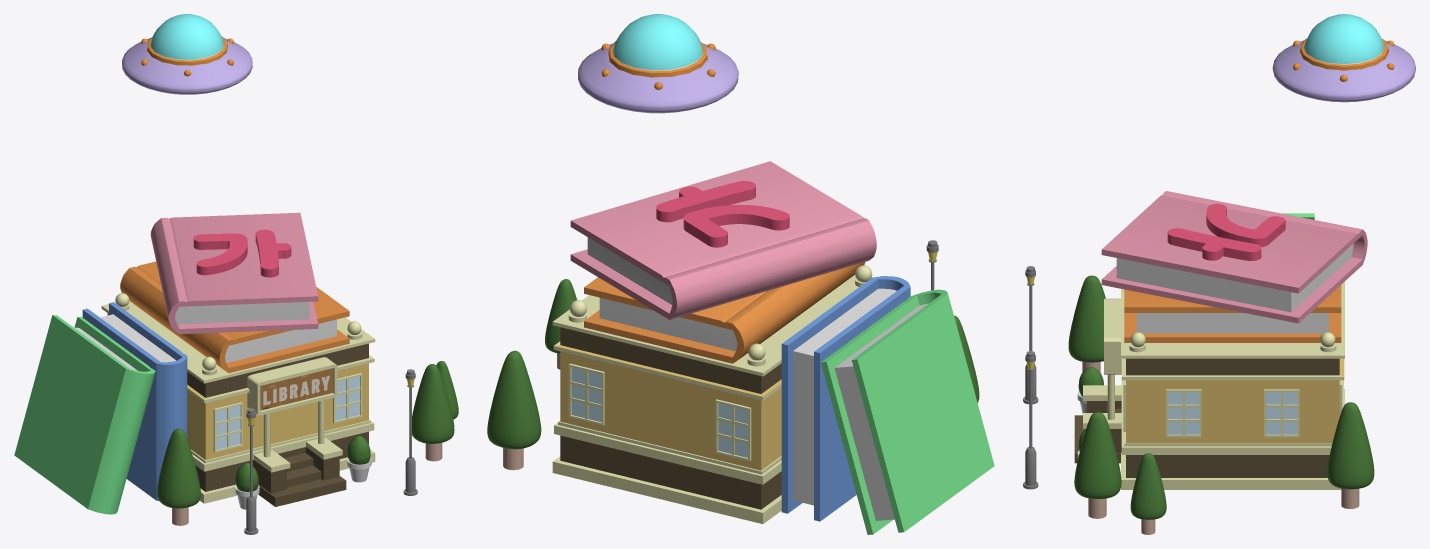
Rendered from Library.fbx.
3 views of the same model, side by side, from view 1: azimuth 30°, elevation 25°; view 2: azimuth 150°, elevation 25°; view 3: azimuth 270°, elevation 25° (orthographic). The views are drawn at different scales.
Parts seen in each view (by area): view 1: Library_Middle, Book_01, Library_Book_Up_02, UFO, Book_02, Library_Book_Up_01, Tree_01, Tree_02, Library_Light, Library_Pot_Plant, Library_Pot_02; view 2: Library_Middle, Library_Book_Up_02, Book_01, Book_02, UFO, Library_Book_Up_01, Tree_03, Tree_04; view 3: Library_Middle, Library_Book_Up_02, UFO, Library_Book_Up_01, Tree_02, Tree_03, Tree_01, Tree_04, Library_Light, Library_Pot_Plant.
Boxes of the visible parts, <box> form: Library_Middle: <box>101,293,375,506</box>; Book_01: <box>14,315,155,514</box>; Library_Book_Up_02: <box>150,212,318,334</box>; UFO: <box>122,14,252,94</box>; Book_02: <box>82,302,187,500</box>; Library_Book_Up_01: <box>120,261,349,372</box>; Tree_01: <box>157,428,200,525</box>; Tree_02: <box>412,364,454,461</box>; Library_Light: <box>244,369,417,534</box>; Library_Pot_Plant: <box>235,435,370,491</box>; Library_Pot_02: <box>235,458,371,509</box>; Library_Middle: <box>552,265,873,523</box>; Library_Book_Up_02: <box>570,161,876,319</box>; Book_01: <box>821,289,994,534</box>; Book_02: <box>781,276,910,521</box>; UFO: <box>578,14,738,113</box>; Library_Book_Up_01: <box>584,262,865,363</box>; Tree_03: <box>487,350,541,470</box>; Tree_04: <box>545,279,576,369</box>; Library_Middle: <box>1074,281,1344,489</box>; Library_Book_Up_02: <box>1101,191,1367,323</box>; UFO: <box>1272,14,1415,102</box>; Library_Book_Up_01: <box>1124,285,1341,342</box>; Tree_02: <box>1074,412,1121,518</box>; Tree_03: <box>1327,402,1374,508</box>; Tree_01: <box>1068,275,1105,372</box>; Tree_04: <box>1130,453,1166,534</box>; Library_Light: <box>1023,266,1038,489</box>; Library_Pot_Plant: <box>1078,367,1103,451</box>.
Size of the model in its own units: 2069 by 2118 by 1762.
